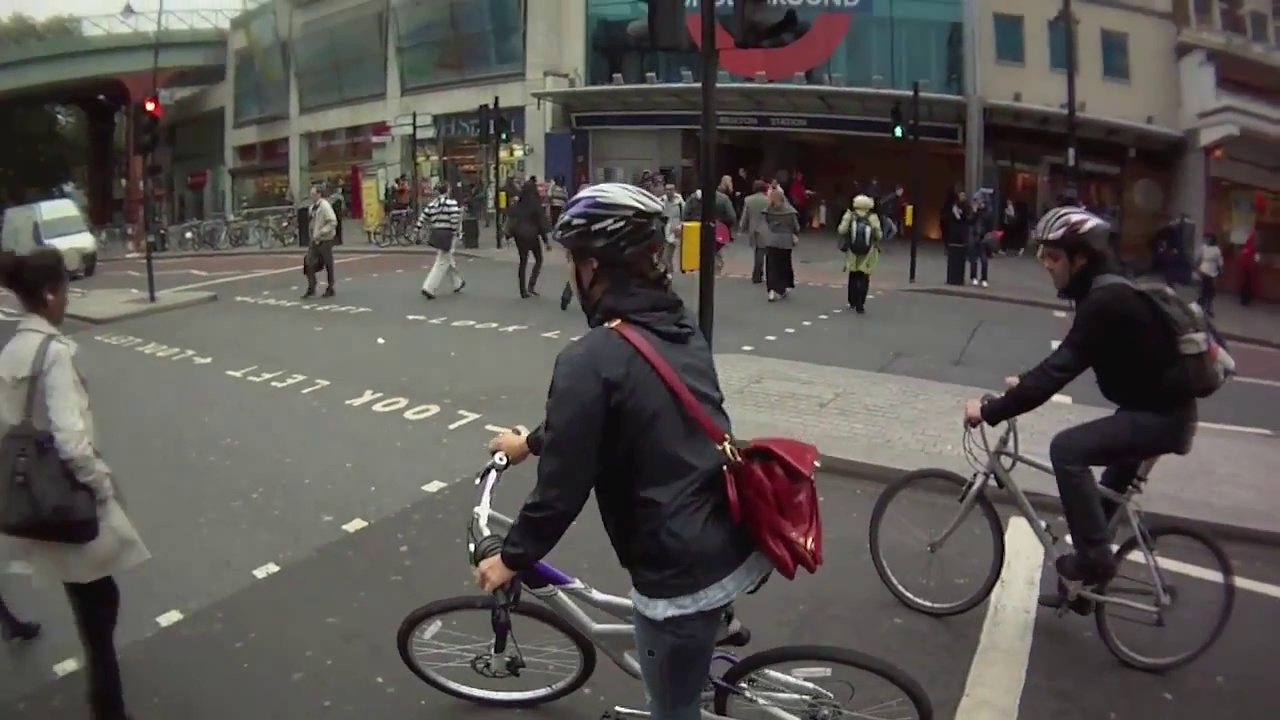cyclist_side: (369, 193, 921, 716), (878, 201, 1240, 667)
